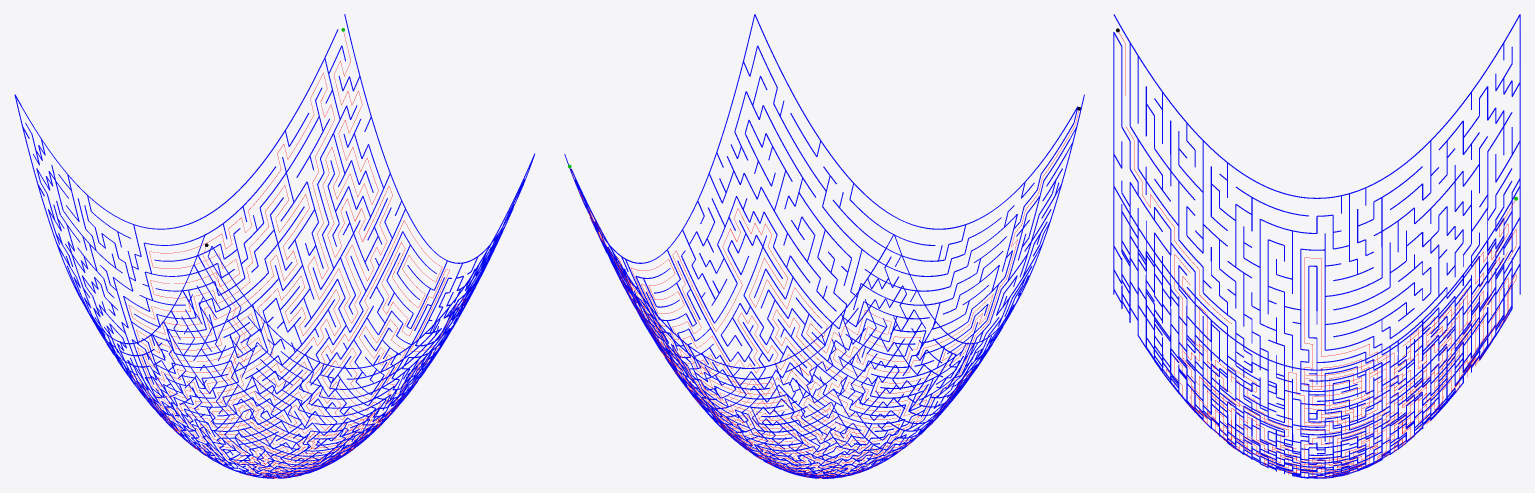
File: GravityMaze.glb
3 views of the same model, side by side, from view 1: azimuth 30°, elevation 25°; view 2: azimuth 150°, elevation 25°; view 3: azimuth 270°, elevation 25° (orthographic). The views are drawn at different scales.
Size of the model in its own units: 2.01 by 2 by 2.01.
